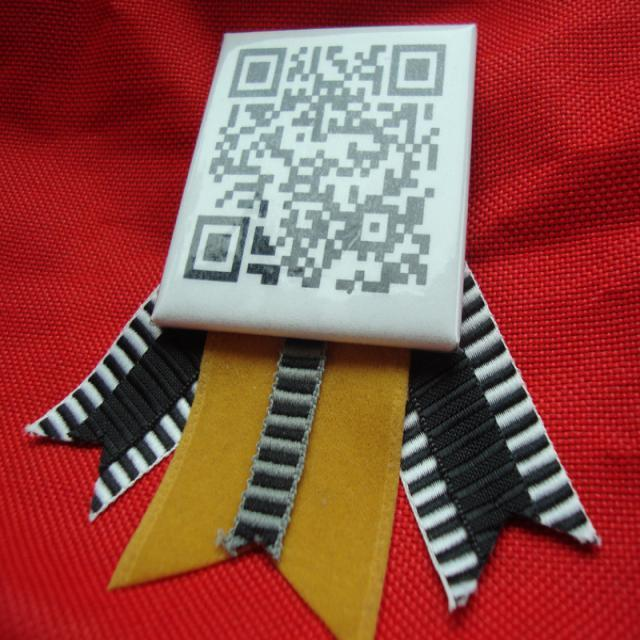qrcode: (183, 45, 447, 295)
